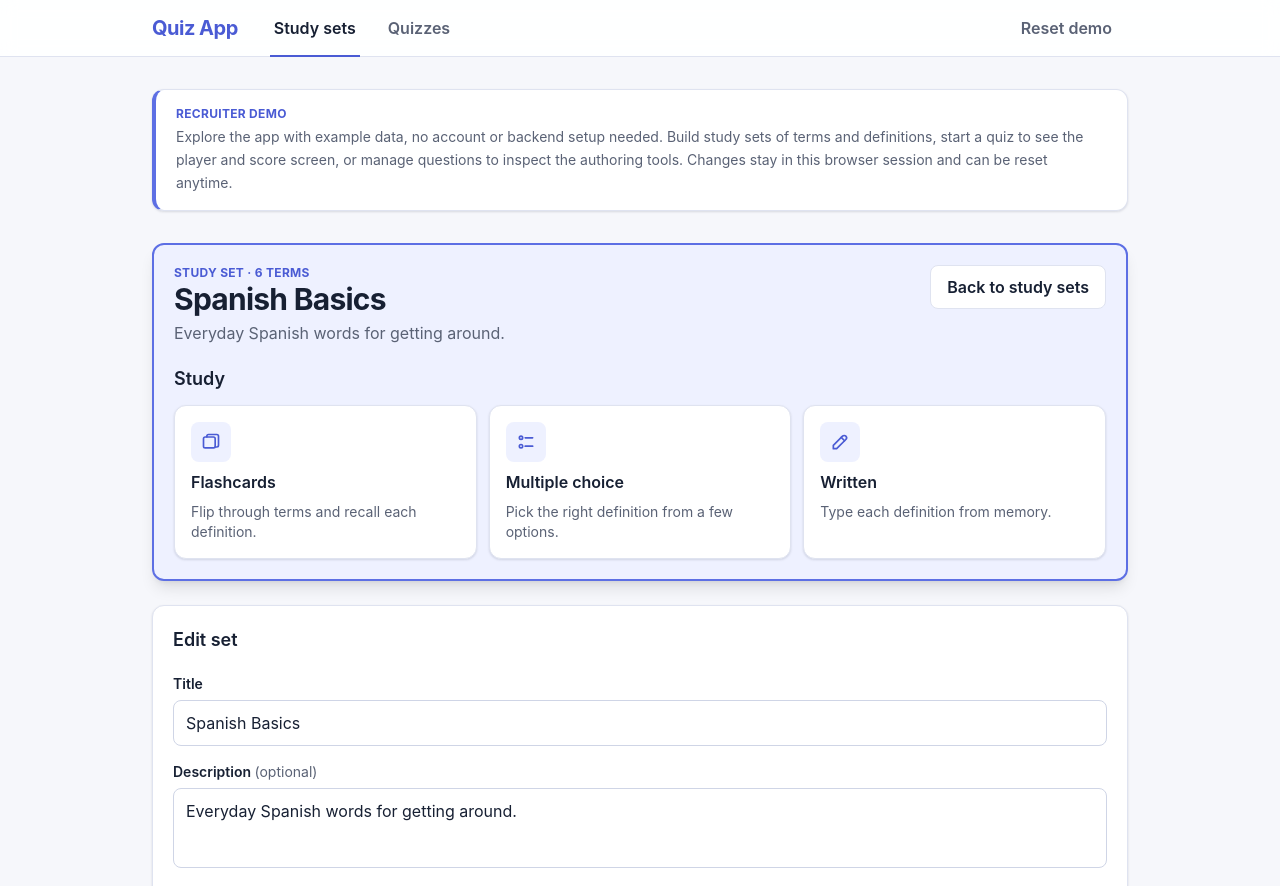
Test: HomePage study set editing across tabs › keeps unsaved study set details when switching to Quizzes and back
Replace the text in the field showing "Spanish Basics" with "Spanish 101". click: [640, 723]
box: [173,700,1107,746]
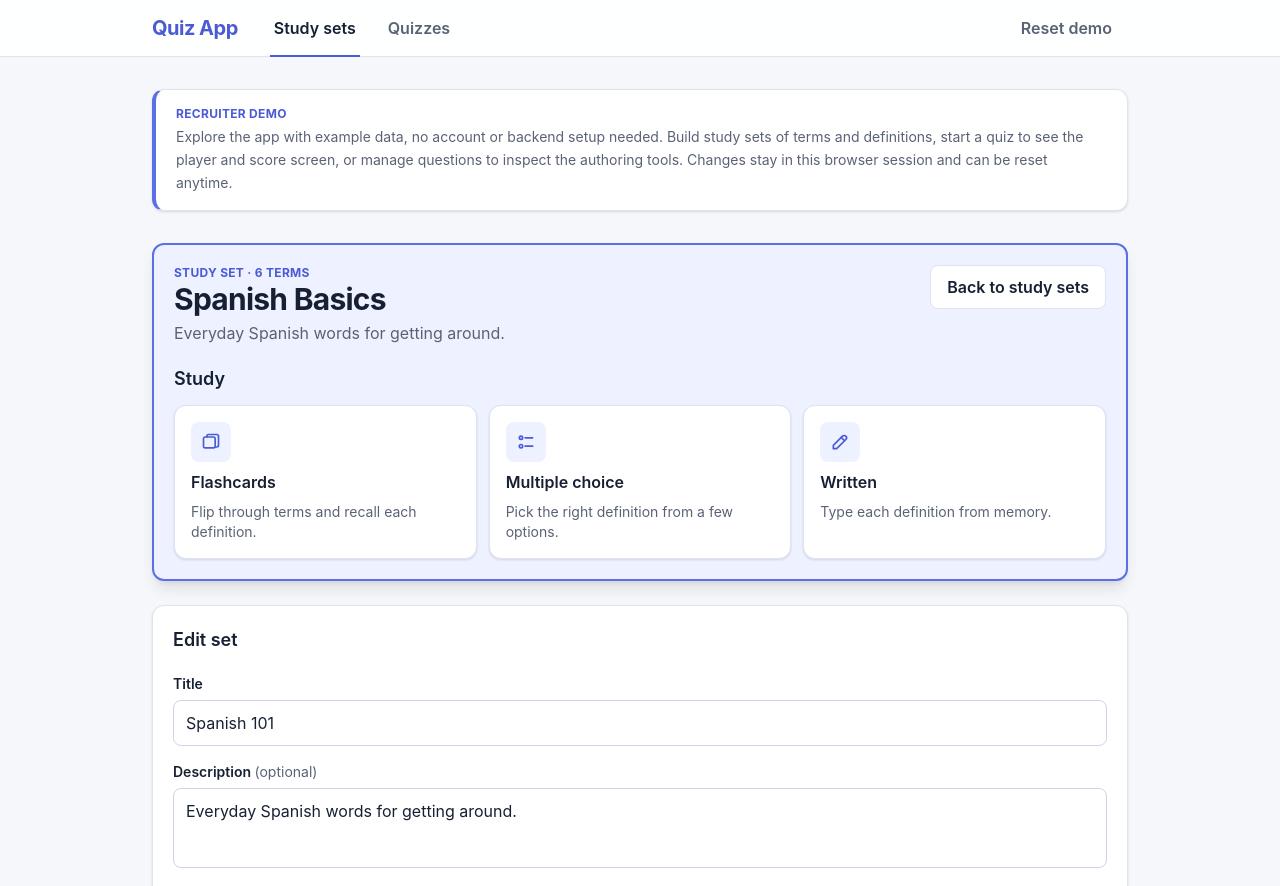
Click the button "Quizzes". click: [419, 28]
box: [384,0,454,56]
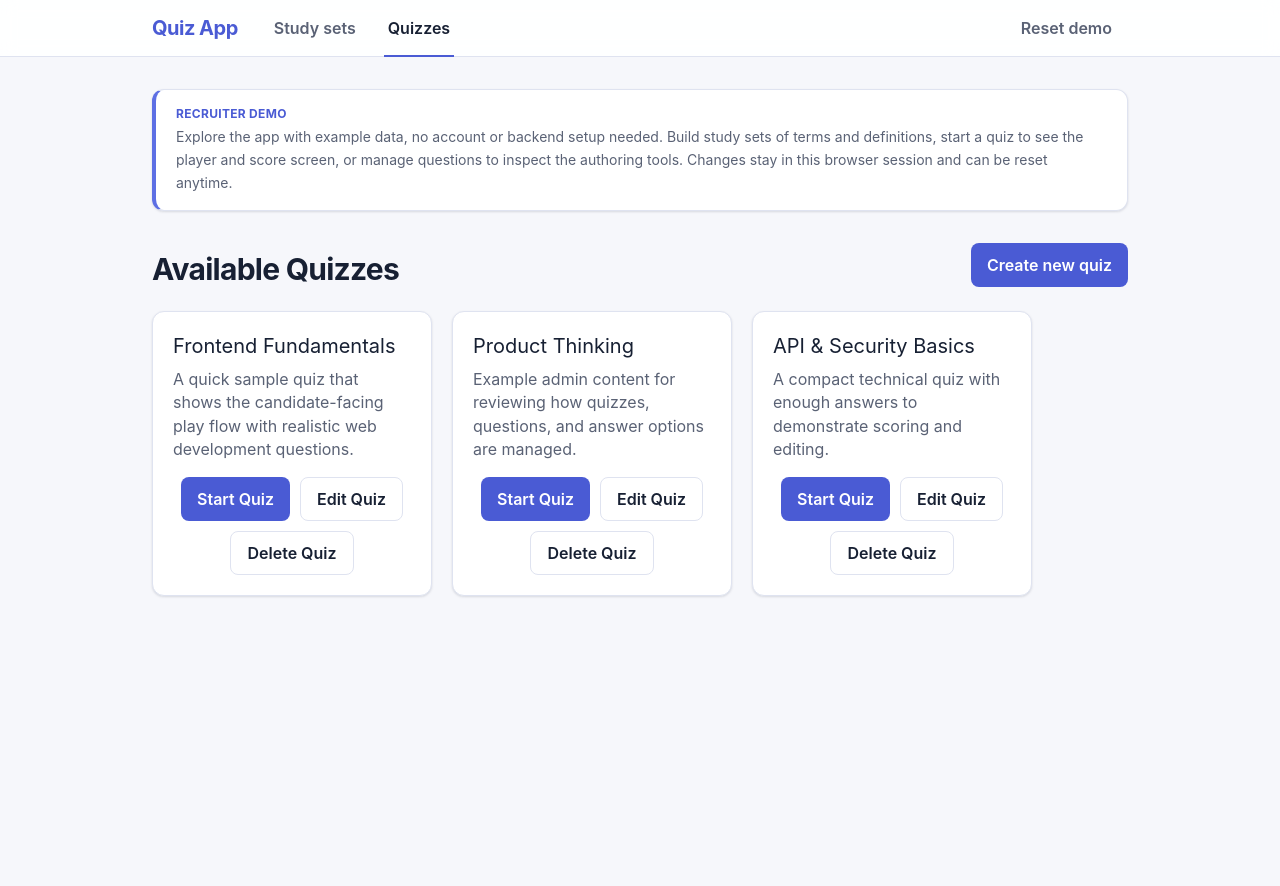
Expected: the heading showing "Spanish Basics" is gone
Click the button "Study sets". click: [315, 28]
box: [270,0,360,56]
(page scrolled)
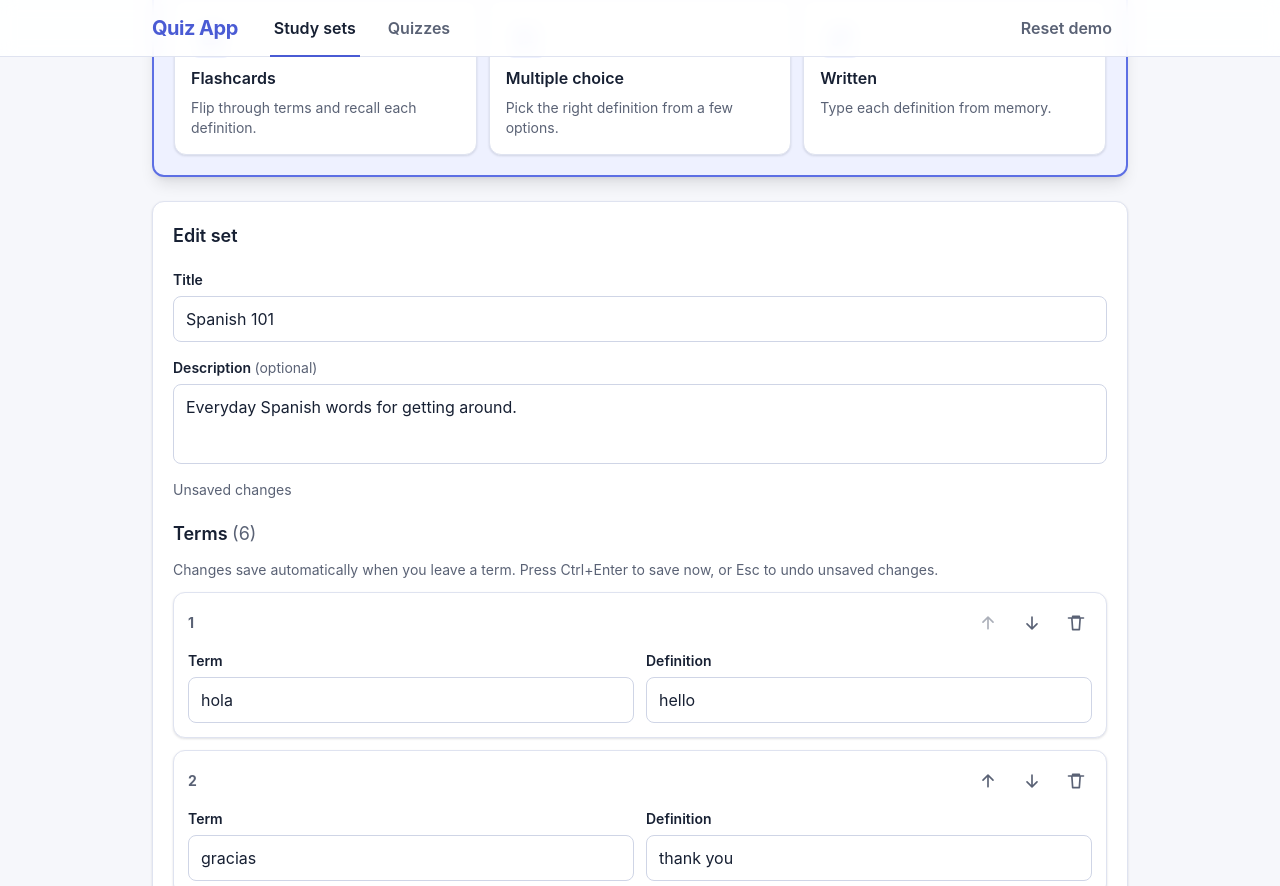
Expected: the text "Unsaved changes" is shown, [173,481,292,498]
